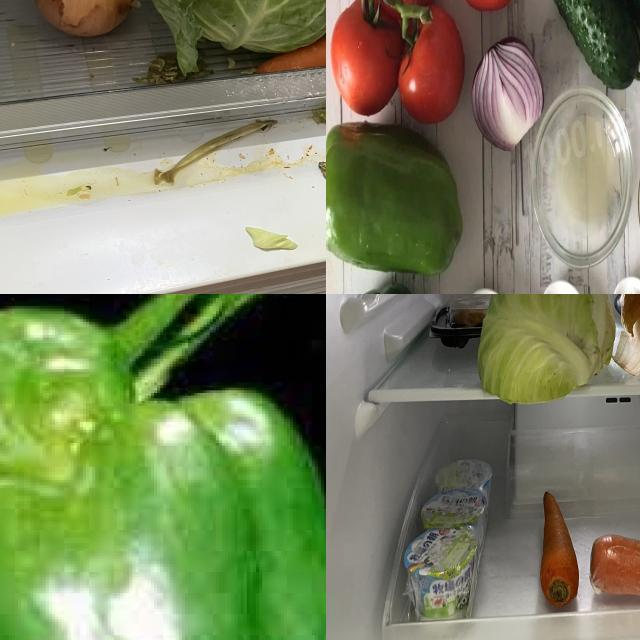bell_pepper: (1, 316, 327, 640), (327, 116, 458, 274)
cabbage: (115, 1, 327, 72), (480, 295, 615, 405)
carrot: (536, 488, 579, 608), (590, 533, 640, 602), (256, 34, 327, 78)
onion: (473, 42, 537, 146), (31, 1, 138, 40)
tomato: (401, 10, 457, 124), (335, 1, 391, 104)
